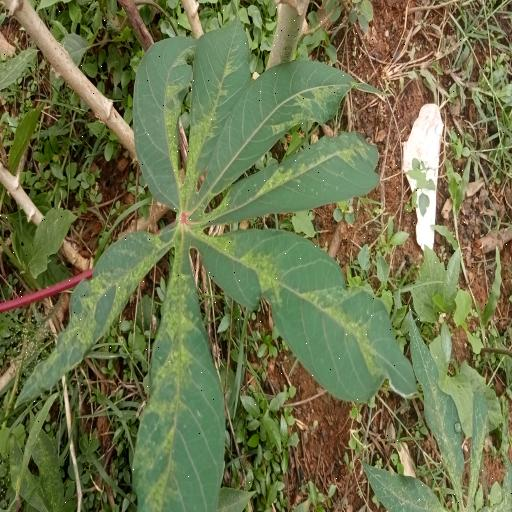Cassava_Mosaic: (13, 19, 424, 512)
